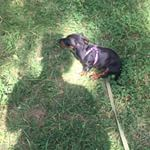puppy: (55, 28, 129, 89)
